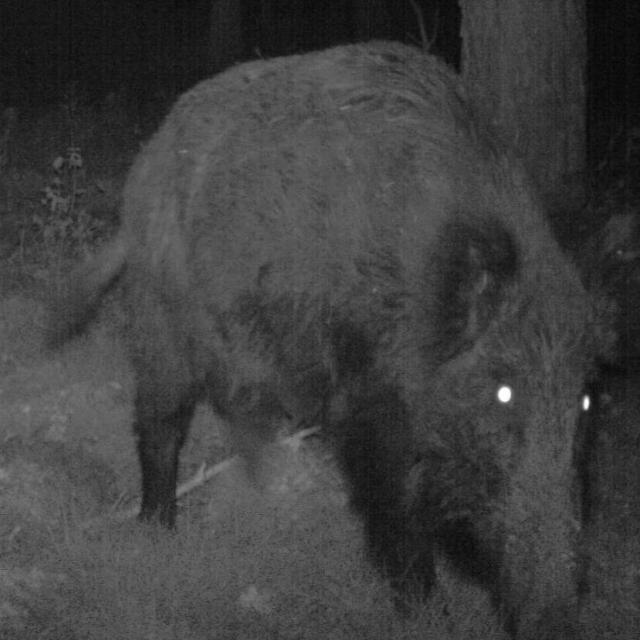pig: (88, 23, 620, 623)
